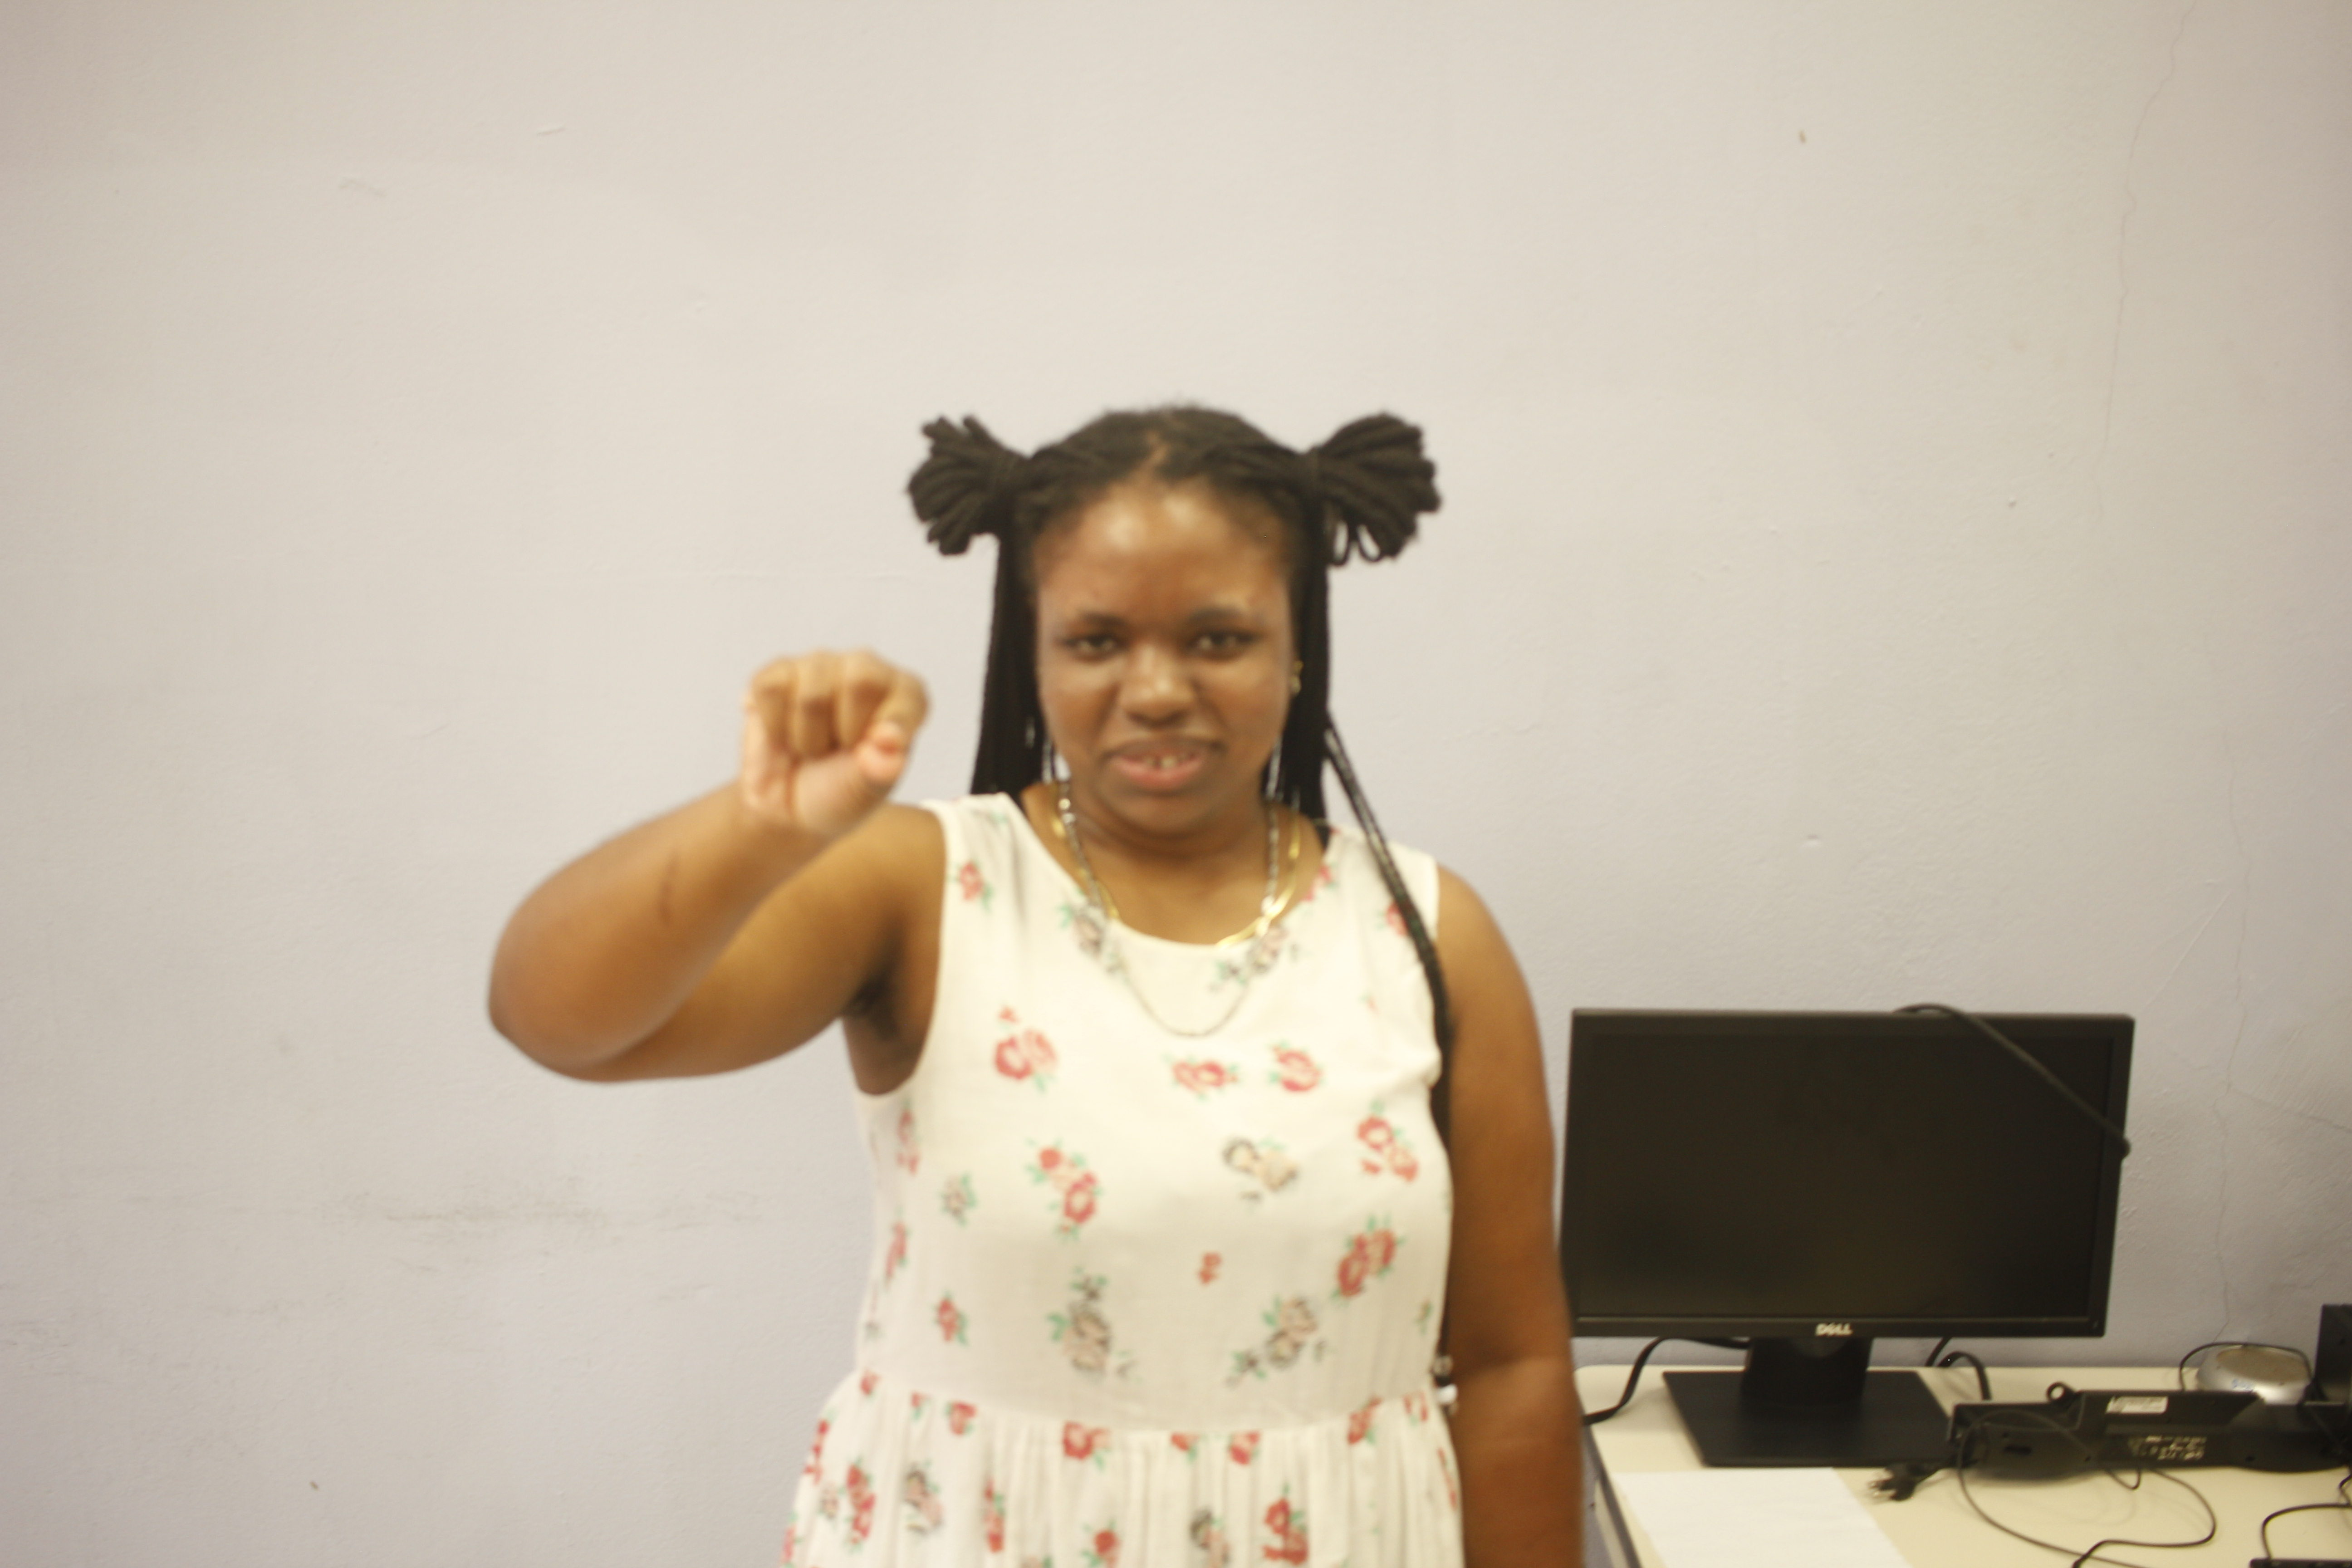comma: (726, 644, 940, 849)
